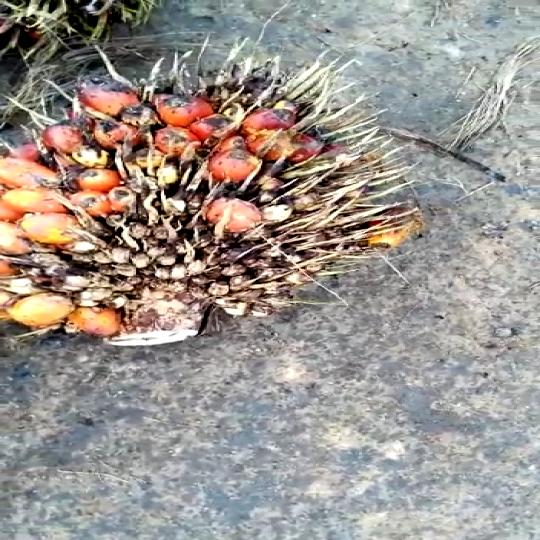masak: (0, 52, 434, 386)
